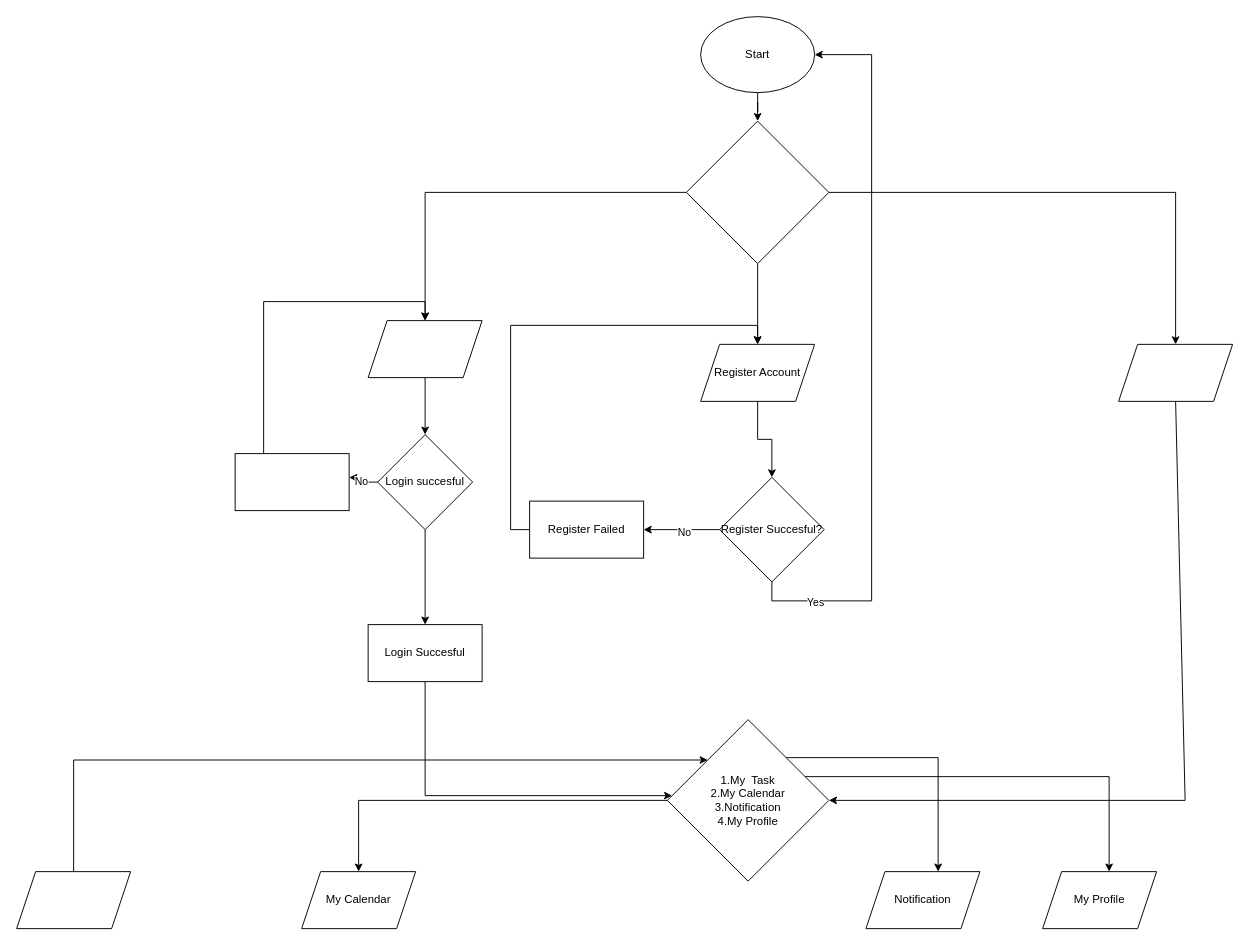
Image size: 1249x945. Some labels were removed from this diagram. The shapes that lost their labels are listed below. From the top down, each one's centre as x and y in pixels, then its label:
At (x=757, y=192): "1.login 2.register 3.no account".
At (x=424, y=349): "Login".
At (x=1175, y=372): "No Account".
At (x=291, y=482): "Login Failed".
At (x=73, y=900): "My Task".
